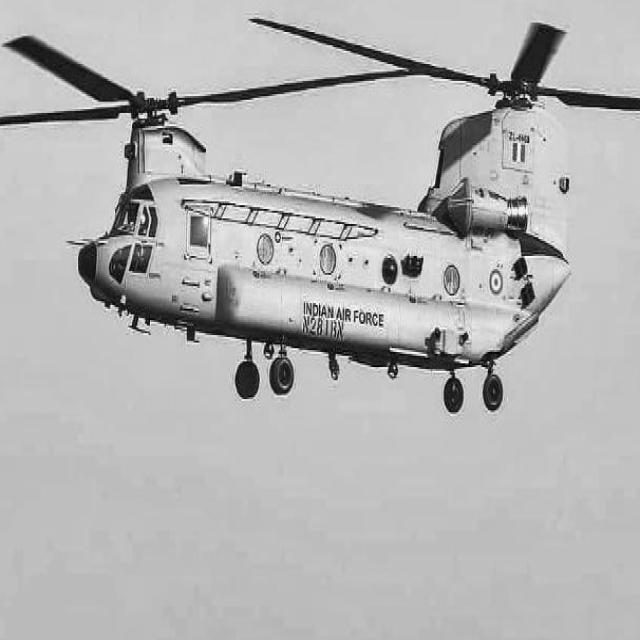helicopter: (1, 24, 640, 413)
